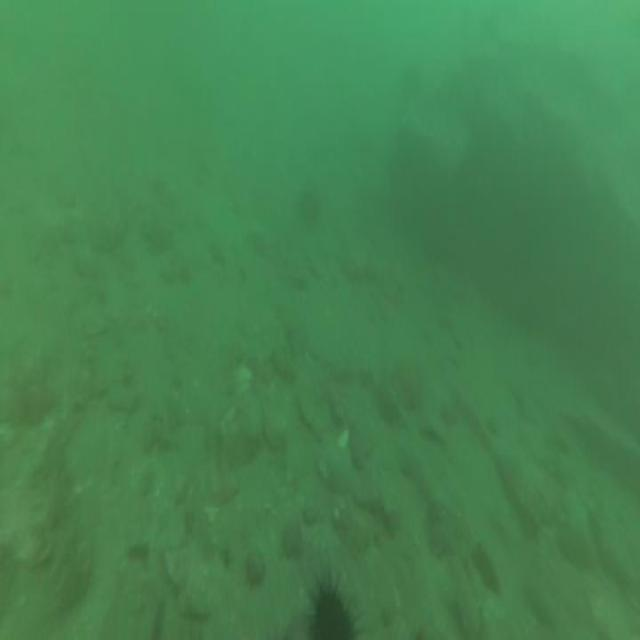echinus: (302, 562, 360, 640), (394, 54, 426, 114), (292, 183, 322, 237)
